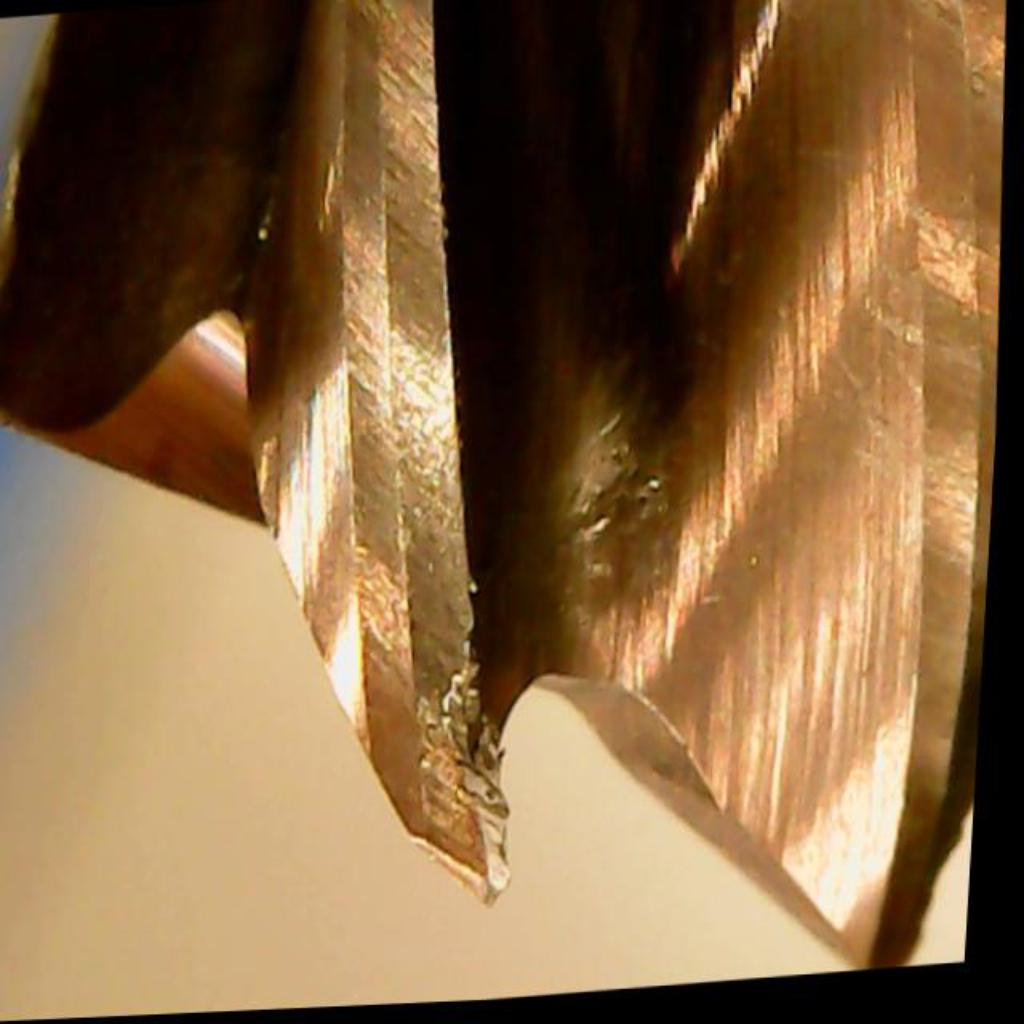Tool-wear-class-1: (313, 563, 576, 927)
